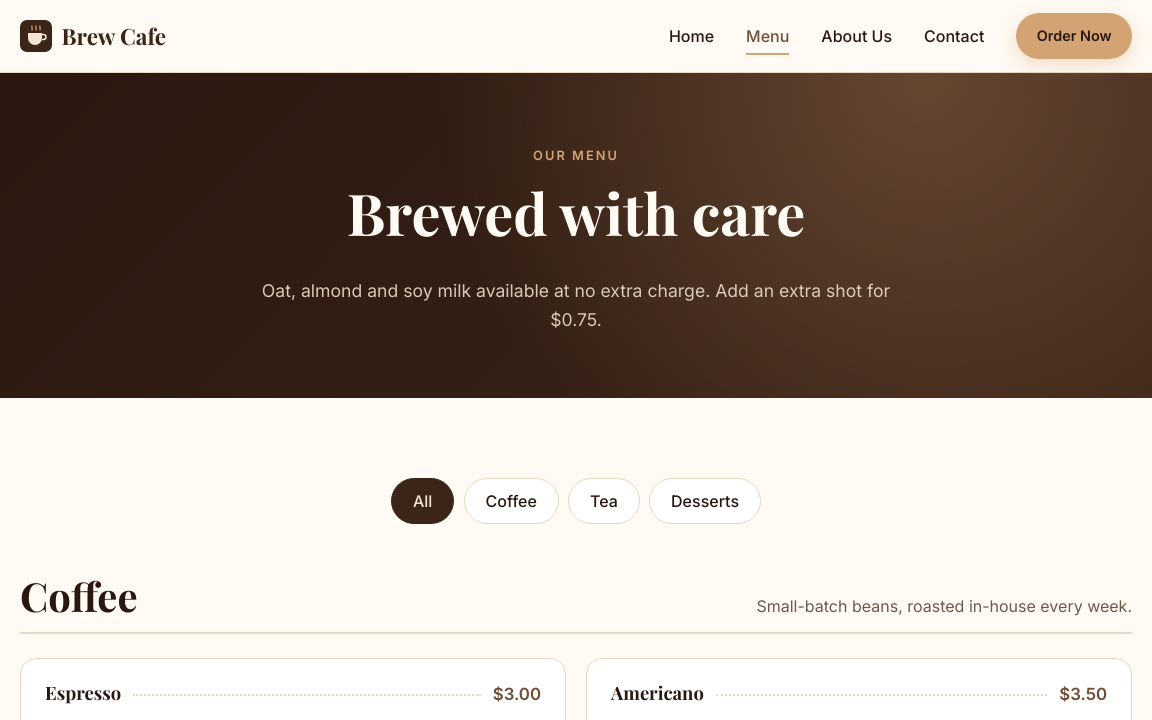
Menu page › filters by category
Click the button "Tea" at [604, 501], box x1=568 y1=478 x2=640 y2=524
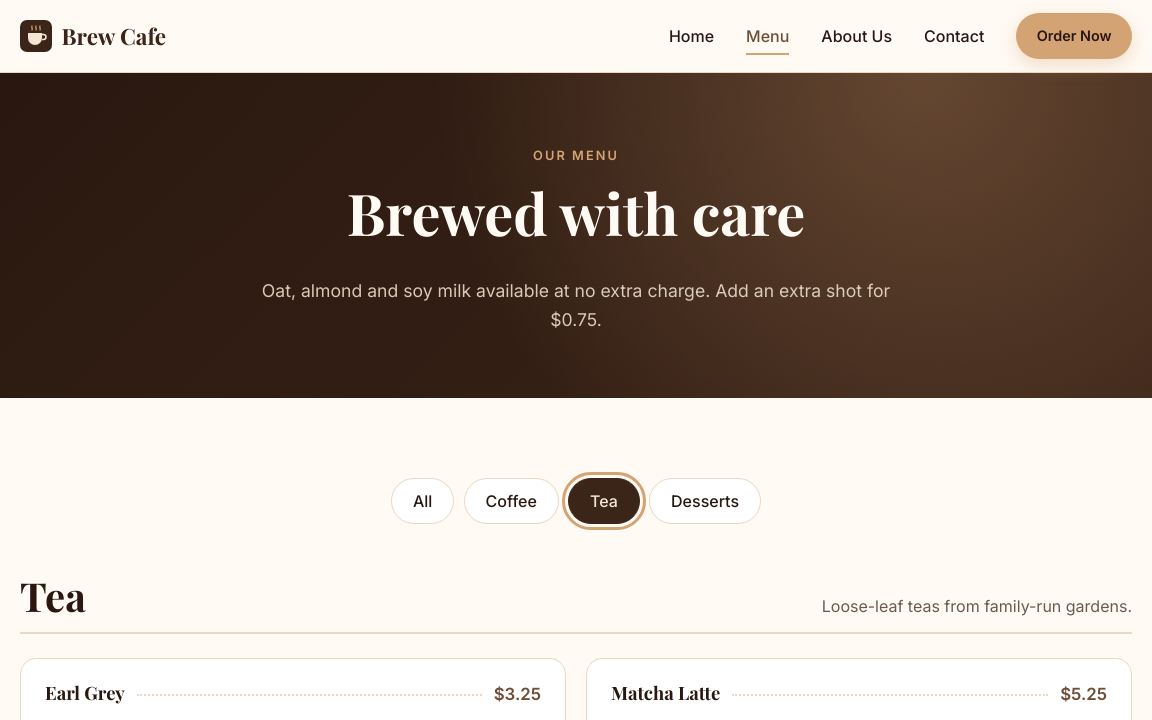
Expected: the button "Tea" is pressed, x1=568 y1=478 x2=640 y2=524
